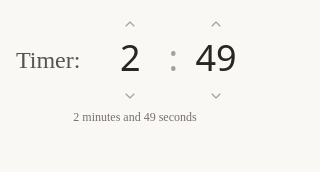
Test case: TimerController › rounds the minutes up correctly (increment seconds button)
The width and height of the screenshot is (320, 172).
Check: the 1st field named "Minutes" holds "2", box x1=96 y1=38 x2=164 y2=78
Check: the 2nd field named "Seconds" holds "49", box x1=182 y1=38 x2=250 y2=78
What coordinates should you click on to do the following:
click the button named "Increment Seconds"
I would click on:
 (216, 24)
Its box is x1=178 y1=12 x2=254 y2=36.
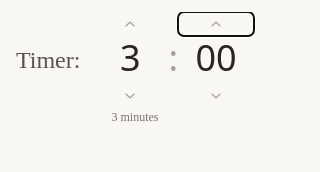
Check: the 1st field named "Minutes" holds "3", box x1=96 y1=38 x2=164 y2=78
Check: the 2nd field named "Seconds" holds "00", box x1=182 y1=38 x2=250 y2=78
What coordinates should you click on to do the following:
click the button named "Increment Seconds"
I would click on:
 (216, 24)
Its box is x1=178 y1=12 x2=254 y2=36.
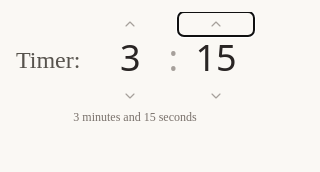
Check: the 1st field named "Minutes" holds "3", box x1=96 y1=38 x2=164 y2=78
Check: the 2nd field named "Seconds" holds "15", box x1=182 y1=38 x2=250 y2=78
